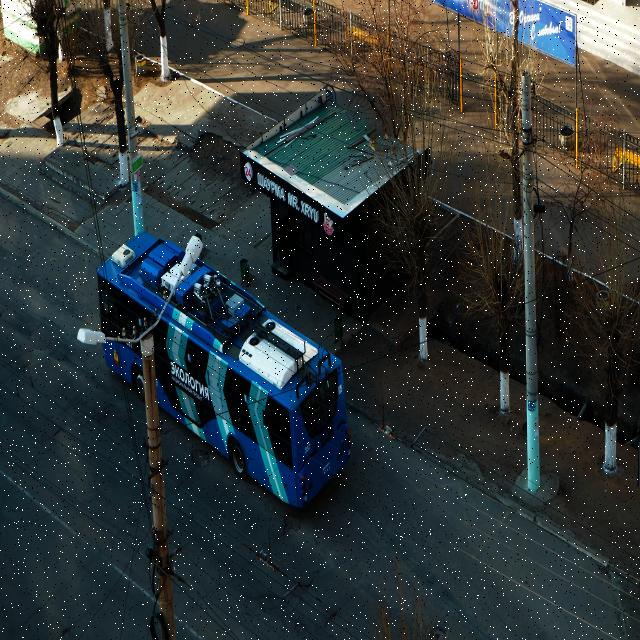bus: (92, 225, 361, 522)
